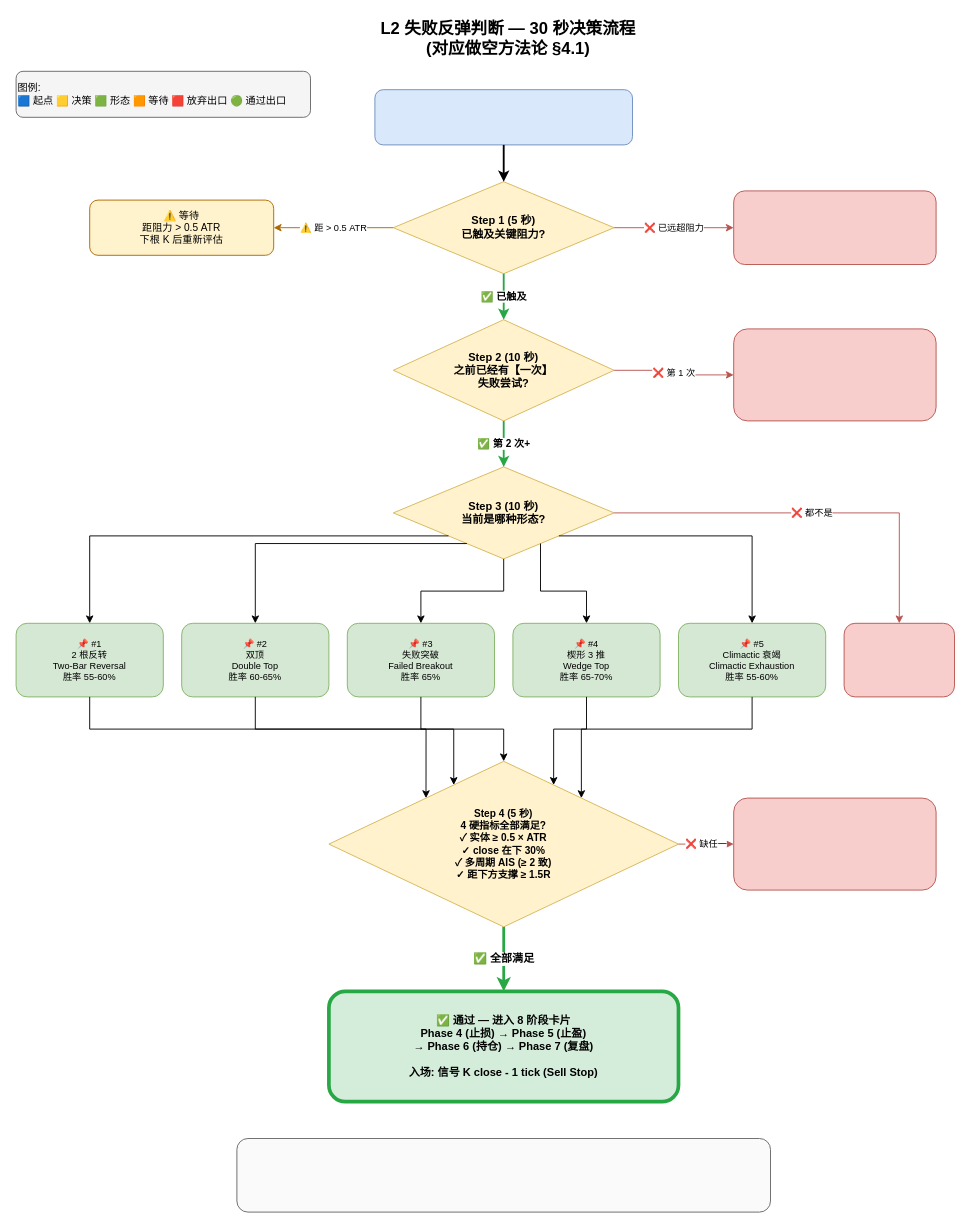
This 971x1228 diagram has some shape labels left out. Here are the shapes that lost their labels. From the top down, the centre of each, then its label:
point 503,117: 反弹接近阻力 (Asia.H / EMA20 / VWAP / PDH)
point 834,227: 🛑 放弃 已远超阻力 这是【突破】不是【反弹】 不要做空
point 834,374: 🛑 放弃 这是 H1/L1 (第 1 次) Brooks 80% rule: 第 1 次有 80% 失败概率 但你不知是不是那 20% 等真失败再说
point 898,659: 🛑 放弃 不是失败动作 只是噪音 / 横盘 不要做空
point 834,843: 🛑 放弃 力度不足 不是高概率 setup 再好的形态也得有硬指标
point 503,1175: 🛑 任何阶段任意一步 ❌ → 全程取消 6 个放弃出口 vs 1 个通过出口 = 6:1 否决率 这就是【概率交易】的本质 — 你大部分时间在【说不】
